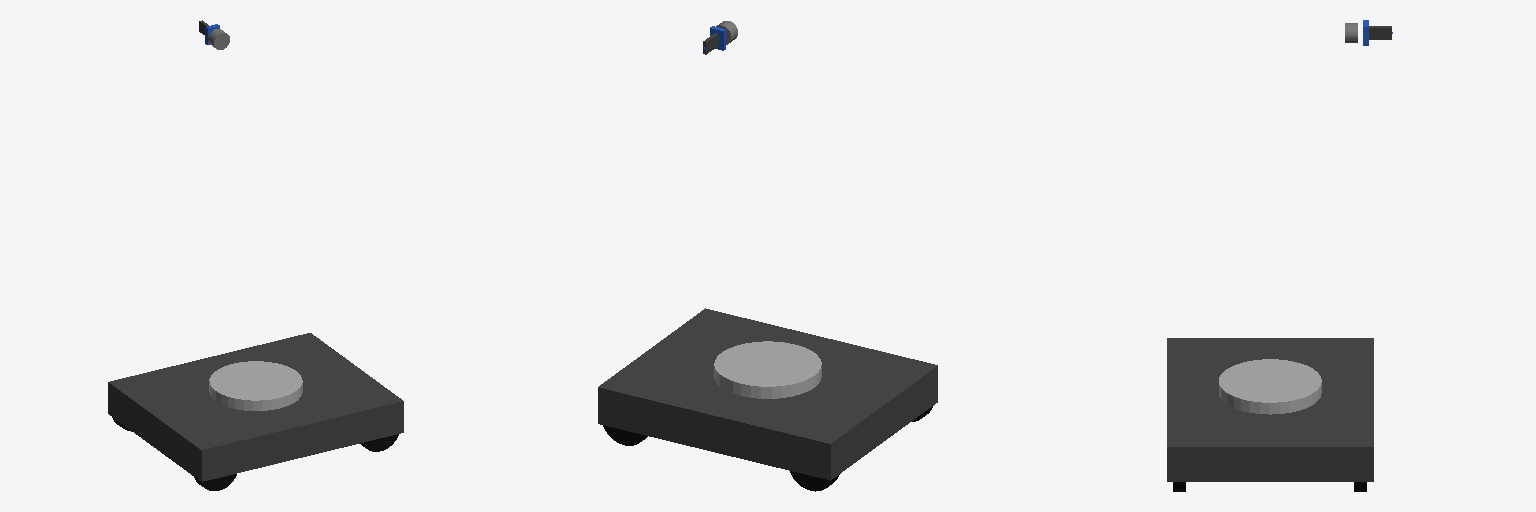
--- What the picture shows (computed from the rendered views, not written in the file) ---
The picture shows the robot from 3 angles, left to right: view 1: azimuth 30°, elevation 25°; view 2: azimuth 150°, elevation 25°; view 3: azimuth 270°, elevation 25°; orthographic projection.
Robot: ur10e — 22 links, 21 joints (6 revolute, 3 prismatic, 12 fixed); root link world_platform; default pose: all joints at 0.
Visible links, largest first — view 1: platform_base, robot_mount; view 2: platform_base, robot_mount; view 3: platform_base, robot_mount.
Link boxes in pixels (box(x1,y1,x2,y2)): platform_base: box(108, 333, 403, 481); robot_mount: box(209, 361, 302, 410); platform_base: box(598, 308, 937, 480); robot_mount: box(714, 341, 821, 398); platform_base: box(1167, 338, 1373, 481); robot_mount: box(1219, 359, 1321, 414).
Bounding box of the posed robot: 1 × 0.8757 × 1.8 m (x, y, z).
Meshes: 7 distinct files referenced, 0 mesh visuals loaded (none loaded); not drawn: 7 (reference not matched to a file when rendering).

robot.urdf — ur10e:
<?xml version="1.0" ?>
<!-- =================================================================================== -->
<!-- |    This document was autogenerated by xacro from [local-path]/lattebot_ws2/src/pkg01/urdf/ur10e.urdf.xacro | -->
<!-- |    EDITING THIS FILE BY HAND IS NOT RECOMMENDED                                 | -->
<!-- =================================================================================== -->
<robot name="ur10e">
    <!-- Materials -->
    <material name="LightGrey">
        <color rgba="0.7 0.7 0.7 1.0" />
    </material>
    <material name="Blue">
        <color rgba="0.0 0.0 0.8 1.0" />
    </material>
    <material name="Red">
        <color rgba="0.8 0.0 0.0 1.0" />
    </material>
    <!-- Base link -->
    <link name="base_link">
        <visual>
            <geometry>
                <mesh filename="package://pkg01/urdf/meshes/ur10e/visual/base.dae" />
            </geometry>
            <material name="LightGrey" />
        </visual>
        <collision>
            <geometry>
                <mesh filename="package://pkg01/urdf/meshes/ur10e/collision/base.stl" />
            </geometry>
        </collision>
        <inertial>
            <mass value="4.0" />
            <origin rpy="0 0 0" xyz="0 0 0" />
            <inertia ixx="0.00443333156" ixy="0.0" ixz="0.0" iyy="0.00443333156" iyz="0.0" izz="0.0072" />
        </inertial>
    </link>
    <link name="shoulder_link">
        <visual>
            <geometry>
                <mesh filename="package://pkg01/urdf/meshes/ur10e/visual/shoulder.dae" />
            </geometry>
            <material name="LightGrey" />
        </visual>
        <collision>
            <geometry>
                <mesh filename="package://pkg01/urdf/meshes/ur10e/collision/shoulder.stl" />
            </geometry>
        </collision>
        <inertial>
            <mass value="7.778" />
            <origin rpy="0 0 0" xyz="0 0 0" />
            <inertia ixx="0.0314743125" ixy="0.0" ixz="0.0" iyy="0.0314743125" iyz="0.0" izz="0.021875" />
        </inertial>
    </link>
    <link name="upper_arm_link">
        <visual>
            <geometry>
                <mesh filename="package://pkg01/urdf/meshes/ur10e/visual/upperarm.dae" />
            </geometry>
            <material name="LightGrey" />
        </visual>
        <collision>
            <geometry>
                <mesh filename="package://pkg01/urdf/meshes/ur10e/collision/upperarm.stl" />
            </geometry>
        </collision>
        <inertial>
            <mass value="12.93" />
            <origin rpy="0 0 0" xyz="0 0 0.30635" />
            <inertia ixx="0.421753803" ixy="0.0" ixz="0.0" iyy="0.421753803" iyz="0.0" izz="0.036365625" />
        </inertial>
    </link>
    <link name="forearm_link">
        <visual>
            <geometry>
                <mesh filename="package://pkg01/urdf/meshes/ur10e/visual/forearm.dae" />
            </geometry>
            <material name="LightGrey" />
        </visual>
        <collision>
            <geometry>
                <mesh filename="package://pkg01/urdf/meshes/ur10e/collision/forearm.stl" />
            </geometry>
        </collision>
        <inertial>
            <mass value="3.87" />
            <origin rpy="0 0 0" xyz="0 0 0.285775" />
            <inertia ixx="0.111172755" ixy="0.0" ixz="0.0" iyy="0.111172755" iyz="0.0" izz="0.010884375" />
        </inertial>
    </link>
    <link name="wrist_1_link">
        <visual>
            <geometry>
                <mesh filename="package://pkg01/urdf/meshes/ur10e/visual/wrist1.dae" />
            </geometry>
            <material name="LightGrey" />
        </visual>
        <collision>
            <geometry>
                <mesh filename="package://pkg01/urdf/meshes/ur10e/collision/wrist1.stl" />
            </geometry>
        </collision>
        <inertial>
            <mass value="1.96" />
            <origin rpy="0 0 0" xyz="0 0 0" />
            <inertia ixx="0.0051082479" ixy="0.0" ixz="0.0" iyy="0.0051082479" iyz="0.0" izz="0.0055125" />
        </inertial>
    </link>
    <link name="wrist_2_link">
        <visual>
            <geometry>
                <mesh filename="package://pkg01/urdf/meshes/ur10e/visual/wrist2.dae" />
            </geometry>
            <material name="LightGrey" />
        </visual>
        <collision>
            <geometry>
                <mesh filename="package://pkg01/urdf/meshes/ur10e/collision/wrist2.stl" />
            </geometry>
        </collision>
        <inertial>
            <mass value="1.96" />
            <origin rpy="0 0 0" xyz="0 0 0" />
            <inertia ixx="0.0051082479" ixy="0.0" ixz="0.0" iyy="0.0051082479" iyz="0.0" izz="0.0055125" />
        </inertial>
    </link>
    <link name="wrist_3_link">
        <visual>
            <geometry>
                <mesh filename="package://pkg01/urdf/meshes/ur10e/visual/wrist3.dae" />
            </geometry>
            <material name="LightGrey" />
        </visual>
        <collision>
            <geometry>
                <mesh filename="package://pkg01/urdf/meshes/ur10e/collision/wrist3.stl" />
            </geometry>
        </collision>
        <inertial>
            <mass value="0.202" />
            <origin rpy="0 0 0" xyz="0.0 0.0 -0.025" />
            <inertia ixx="0.000526462289" ixy="0.0" ixz="0.0" iyy="0.000526462289" iyz="0.0" izz="0.000568125" />
        </inertial>
    </link>
    <link name="ee_link">
        <collision>
            <geometry>
                <box size="0.01 0.01 0.01" />
            </geometry>
            <origin rpy="0 0 0" xyz="-0.01 0 0" />
        </collision>
        <inertial>
            <mass value="0.1" />
            <origin xyz="0 0 0" rpy="0 0 0" />
            <inertia ixx="0.03" iyy="0.03" izz="0.03" ixy="0.0" ixz="0.0" iyz="0.0" />
        </inertial>
    </link>
    <link name="tool0" />
    <link name="flange" />
    <!-- Shoulder link -->
    <joint name="shoulder_pan_joint" type="revolute">
        <parent link="base_link" />
        <child link="shoulder_link" />
        <origin rpy="0.0 0.0 0.0" xyz="0.0 0.0 0.1807" />
        <axis xyz="0 0 1" />
        <limit effort="330.0" lower="-6.283185307179586" upper="6.283185307179586" velocity="2.16" />
        <dynamics damping="0.0" friction="0.0" />
    </joint>
    <!-- Upper arm link -->
    <joint name="shoulder_lift_joint" type="revolute">
        <parent link="shoulder_link" />
        <child link="upper_arm_link" />
        <origin rpy="0.0 0.0 0.0" xyz="0.0 0.17415 0.0" />
        <axis xyz="0 1 0" />
        <limit effort="330.0" lower="-3.141592653589793" upper="3.141592653589793" velocity="2.16" />
        <dynamics damping="0.0" friction="0.0" />
    </joint>
    <!-- Forearm link -->
    <joint name="elbow_joint" type="revolute">
        <parent link="upper_arm_link" />
        <child link="forearm_link" />
        <origin rpy="0.0 0.0 0.0" xyz="0.0 -0.1365 0.6127" />
        <axis xyz="0 1 0" />
        <limit effort="150.0" lower="-3.141592653589793" upper="3.141592653589793" velocity="3.15" />
        <dynamics damping="0.0" friction="0.0" />
    </joint>
    <!-- Wrist 1 link -->
    <joint name="wrist_1_joint" type="revolute">
        <parent link="forearm_link" />
        <child link="wrist_1_link" />
        <origin rpy="0.0 0.0 0.0" xyz="0.0 0.0 0.57155" />
        <axis xyz="0 1 0" />
        <limit effort="54.0" lower="-6.283185307179586" upper="6.283185307179586" velocity="3.2" />
        <dynamics damping="0.0" friction="0.0" />
    </joint>
    <!-- Wrist 2 link -->
    <joint name="wrist_2_joint" type="revolute">
        <parent link="wrist_1_link" />
        <child link="wrist_2_link" />
        <origin rpy="0.0 0.0 0.0" xyz="0.0 0.1365 0.0" />
        <axis xyz="0 0 1" />
        <limit effort="54.0" lower="-6.283185307179586" upper="6.283185307179586" velocity="3.2" />
        <dynamics damping="0.0" friction="0.0" />
    </joint>
    <!-- Wrist 3 link -->
    <joint name="wrist_3_joint" type="revolute">
        <parent link="wrist_2_link" />
        <child link="wrist_3_link" />
        <origin rpy="0.0 0.0 0.0" xyz="0.0 0.0 0.11985" />
        <axis xyz="0 1 0" />
        <limit effort="54.0" lower="-6.283185307179586" upper="6.283185307179586" velocity="3.2" />
        <dynamics damping="0.0" friction="0.0" />
    </joint>
    <!-- End effector frame -->
    <joint name="ee_fixed_joint" type="fixed">
        <parent link="wrist_3_link" />
        <child link="ee_link" />
        <origin rpy="0.0 0.0 0.0" xyz="0.0 0.11655 0.0" />
    </joint>
    <!-- Tool frame -->
    <joint name="wrist_3_link-tool0_fixed_joint" type="fixed">
        <origin rpy="0 0 0" xyz="0 0.11655 0" />
        <parent link="wrist_3_link" />
        <child link="tool0" />
    </joint>
    <!-- ROS-Industrial 'flange' frame: attachment point for EEF models -->
    <joint name="tool0-flange_fixed_joint" type="fixed">
        <origin rpy="0 0 0" xyz="0 0 0" />
        <parent link="tool0" />
        <child link="flange" />
    </joint>
    <!-- Material for platform -->
    <material name="DarkGrey">
        <color rgba="0.3 0.3 0.3 1.0" />
    </material>
    <!-- Fixed world link (ground reference) -->
    <link name="world_platform">
        <inertial>
            <mass value="0.001" />
            <origin rpy="0 0 0" xyz="0 0 0" />
            <inertia ixx="0.001" ixy="0.0" ixz="0.0" iyy="0.001" iyz="0.0" izz="0.001" />
        </inertial>
    </link>
    <!-- Platform base link (moves along rail) -->
    <link name="platform_base">
        <visual>
            <geometry>
                <box size="1.0 0.8 0.15" />
            </geometry>
            <origin rpy="0 0 0" xyz="0 0 0.075" />
            <material name="DarkGrey" />
        </visual>
        <collision>
            <geometry>
                <box size="1.0 0.8 0.15" />
            </geometry>
            <origin rpy="0 0 0" xyz="0 0 0.075" />
        </collision>
        <inertial>
            <mass value="50.0" />
            <origin rpy="0 0 0" xyz="0 0 0.075" />
            <inertia ixx="2.7604166666666665" ixy="0.0" ixz="0.0" iyy="4.260416666666666" iyz="0.0" izz="6.833333333333333" />
        </inertial>
    </link>
    <link name="front_left_wheel">
        <visual>
            <geometry>
                <cylinder length="0.05" radius="0.1" />
            </geometry>
            <origin rpy="1.5707963267948966 0 0" xyz="0 0 0" />
            <material name="Black">
                <color rgba="0.1 0.1 0.1 1.0" />
            </material>
        </visual>
        <collision>
            <geometry>
                <cylinder length="0.05" radius="0.1" />
            </geometry>
            <origin rpy="1.5707963267948966 0 0" xyz="0 0 0" />
        </collision>
        <inertial>
            <mass value="2.0" />
            <origin rpy="1.5707963267948966 0 0" xyz="0 0 0" />
            <inertia ixx="0.005416666666666668" ixy="0.0" ixz="0.0" iyy="0.005416666666666668" iyz="0.0" izz="0.010000000000000002" />
        </inertial>
    </link>
    <joint name="front_left_wheel_joint" type="fixed">
        <parent link="platform_base" />
        <child link="front_left_wheel" />
        <origin rpy="0 0 0" xyz="0.4 0.35 0.02500000000000001" />
    </joint>
    <gazebo reference="front_left_wheel">
        <material>Gazebo/Black</material>
        <mu1>1.0</mu1>
        <mu2>1.0</mu2>
        <plugin name="gazebo_ros_control" filename="libgazebo_ros_control.so">
            <robotNamespace>/</robotNamespace>
        </plugin>
    </gazebo>
    <link name="front_right_wheel">
        <visual>
            <geometry>
                <cylinder length="0.05" radius="0.1" />
            </geometry>
            <origin rpy="1.5707963267948966 0 0" xyz="0 0 0" />
            <material name="Black">
                <color rgba="0.1 0.1 0.1 1.0" />
            </material>
        </visual>
        <collision>
            <geometry>
                <cylinder length="0.05" radius="0.1" />
            </geometry>
            <origin rpy="1.5707963267948966 0 0" xyz="0 0 0" />
        </collision>
        <inertial>
            <mass value="2.0" />
            <origin rpy="1.5707963267948966 0 0" xyz="0 0 0" />
            <inertia ixx="0.005416666666666668" ixy="0.0" ixz="0.0" iyy="0.005416666666666668" iyz="0.0" izz="0.010000000000000002" />
        </inertial>
    </link>
    <joint name="front_right_wheel_joint" type="fixed">
        <parent link="platform_base" />
        <child link="front_right_wheel" />
        <origin rpy="0 0 0" xyz="0.4 -0.35 0.02500000000000001" />
    </joint>
    <gazebo reference="front_right_wheel">
        <material>Gazebo/Black</material>
        <mu1>1.0</mu1>
        <mu2>1.0</mu2>
    </gazebo>
    <link name="rear_left_wheel">
        <visual>
            <geometry>
                <cylinder length="0.05" radius="0.1" />
            </geometry>
            <origin rpy="1.5707963267948966 0 0" xyz="0 0 0" />
            <material name="Black">
                <color rgba="0.1 0.1 0.1 1.0" />
            </material>
        </visual>
        <collision>
            <geometry>
                <cylinder length="0.05" radius="0.1" />
            </geometry>
            <origin rpy="1.5707963267948966 0 0" xyz="0 0 0" />
        </collision>
        <inertial>
            <mass value="2.0" />
            <origin rpy="1.5707963267948966 0 0" xyz="0 0 0" />
            <inertia ixx="0.005416666666666668" ixy="0.0" ixz="0.0" iyy="0.005416666666666668" iyz="0.0" izz="0.010000000000000002" />
        </inertial>
    </link>
    <joint name="rear_left_wheel_joint" type="fixed">
        <parent link="platform_base" />
        <child link="rear_left_wheel" />
        <origin rpy="0 0 0" xyz="-0.4 0.35 0.02500000000000001" />
    </joint>
    <gazebo reference="rear_left_wheel">
        <material>Gazebo/Black</material>
        <mu1>1.0</mu1>
        <mu2>1.0</mu2>
    </gazebo>
    <link name="rear_right_wheel">
        <visual>
            <geometry>
                <cylinder length="0.05" radius="0.1" />
            </geometry>
            <origin rpy="1.5707963267948966 0 0" xyz="0 0 0" />
            <material name="Black">
                <color rgba="0.1 0.1 0.1 1.0" />
            </material>
        </visual>
        <collision>
            <geometry>
                <cylinder length="0.05" radius="0.1" />
            </geometry>
            <origin rpy="1.5707963267948966 0 0" xyz="0 0 0" />
        </collision>
        <inertial>
            <mass value="2.0" />
            <origin rpy="1.5707963267948966 0 0" xyz="0 0 0" />
            <inertia ixx="0.005416666666666668" ixy="0.0" ixz="0.0" iyy="0.005416666666666668" iyz="0.0" izz="0.010000000000000002" />
        </inertial>
    </link>
    <joint name="rear_right_wheel_joint" type="fixed">
        <parent link="platform_base" />
        <child link="rear_right_wheel" />
        <origin rpy="0 0 0" xyz="-0.4 -0.35 0.02500000000000001" />
    </joint>
    <gazebo reference="rear_right_wheel">
        <material>Gazebo/Black</material>
        <mu1>1.0</mu1>
        <mu2>1.0</mu2>
    </gazebo>
    <!-- Prismatic joint for linear motion (0 to 10 meters along X axis) -->
    <joint name="platform_joint" type="prismatic">
        <parent link="world_platform" />
        <child link="platform_base" />
        <origin rpy="0 0 0" xyz="0 0 0" />
        <axis xyz="1 0 0" />
        <!-- Motion along X axis -->
        <limit effort="1000.0" lower="0.0" upper="10.0" velocity="1.0" />
        <dynamics damping="50.0" friction="10.0" />
    </joint>
    <!-- Robot mounting plate on top of platform -->
    <link name="robot_mount">
        <visual>
            <geometry>
                <cylinder length="0.05" radius="0.2" />
            </geometry>
            <origin rpy="0 0 0" xyz="0 0 0.025" />
            <material name="LightGrey">
                <color rgba="0.7 0.7 0.7 1.0" />
            </material>
        </visual>
        <collision>
            <geometry>
                <cylinder length="0.05" radius="0.2" />
            </geometry>
            <origin rpy="0 0 0" xyz="0 0 0.025" />
        </collision>
        <inertial>
            <mass value="5.0" />
            <origin rpy="0 0 0" xyz="0 0 0.025" />
            <inertia ixx="0.0208" ixy="0.0" ixz="0.0" iyy="0.0208" iyz="0.0" izz="0.02" />
        </inertial>
    </link>
    <!-- Fixed joint connecting platform to robot mount -->
    <joint name="platform_to_mount" type="fixed">
        <parent link="platform_base" />
        <child link="robot_mount" />
        <origin rpy="0 0 0" xyz="0 0 0.15" />
    </joint>
    <!-- Gazebo properties -->
    <gazebo reference="world_platform">
        <static>true</static>
    </gazebo>
    <gazebo reference="platform_base">
        <material>Gazebo/DarkGrey</material>
        <mu1>0.8</mu1>
        <mu2>0.8</mu2>
    </gazebo>
    <gazebo reference="robot_mount">
        <material>Gazebo/Grey</material>
    </gazebo>
    <!-- Transmission for the prismatic joint -->
    <transmission name="platform_trans">
        <type>transmission_interface/SimpleTransmission</type>
        <joint name="platform_joint">
            <hardwareInterface>hardware_interface/PositionJointInterface</hardwareInterface>
        </joint>
        <actuator name="platform_motor">
            <mechanicalReduction>1</mechanicalReduction>
            <hardwareInterface>hardware_interface/EffortJointInterface</hardwareInterface>
        </actuator>
    </transmission>
    <!-- Connect robot base to platform mount -->
    <joint name="robot_mount_to_base" type="fixed">
        <origin rpy="0 0 0" xyz="0 0 0.05" />
        <parent link="robot_mount" />
        <child link="base_link" />
    </joint>
    <!-- Simple Gripper Macro for Pick and Place Operations -->
    <!-- Can be attached to UR10e tool0/flange -->
    <!-- Materials -->
    <material name="gripper_gray">
        <color rgba="0.5 0.5 0.5 1.0" />
    </material>
    <material name="gripper_dark">
        <color rgba="0.3 0.3 0.3 1.0" />
    </material>
    <material name="gripper_blue">
        <color rgba="0.2 0.4 0.8 1.0" />
    </material>
    <!-- Base Link (mounts to robot tool flange) -->
    <link name="gripper_base_link">
        <visual>
            <origin rpy="0 0 0" xyz="0 0 0.025" />
            <geometry>
                <cylinder length="0.05" radius="0.04" />
            </geometry>
            <material name="gripper_gray" />
        </visual>
        <collision>
            <origin rpy="0 0 0" xyz="0 0 0.025" />
            <geometry>
                <cylinder length="0.05" radius="0.04" />
            </geometry>
        </collision>
        <inertial>
            <origin rpy="0 0 0" xyz="0 0 0.025" />
            <mass value="0.3" />
            <inertia ixx="0.0001" ixy="0.0" ixz="0.0" iyy="0.0001" iyz="0.0" izz="0.0001" />
        </inertial>
    </link>
    <!-- Palm Link (connection point for fingers) -->
    <link name="gripper_palm">
        <visual>
            <origin rpy="0 0 0" xyz="0 0 0.03" />
            <geometry>
                <box size="0.06 0.08 0.02" />
            </geometry>
            <material name="gripper_blue" />
        </visual>
        <collision>
            <origin rpy="0 0 0" xyz="0 0 0.03" />
            <geometry>
                <box size="0.06 0.08 0.02" />
            </geometry>
        </collision>
        <inertial>
            <origin rpy="0 0 0" xyz="0 0 0.03" />
            <mass value="0.15" />
            <inertia ixx="0.00005" ixy="0.0" ixz="0.0" iyy="0.00005" iyz="0.0" izz="0.00005" />
        </inertial>
    </link>
    <!-- Left Finger -->
    <link name="left_finger">
        <visual>
            <origin rpy="0 0 0" xyz="0 0 0.045" />
            <geometry>
                <box size="0.015 0.025 0.09" />
            </geometry>
            <material name="gripper_dark" />
        </visual>
        <collision>
            <origin rpy="0 0 0" xyz="0 0 0.045" />
            <geometry>
                <box size="0.015 0.025 0.09" />
            </geometry>
        </collision>
        <inertial>
            <origin rpy="0 0 0" xyz="0 0 0.045" />
            <mass value="0.03" />
            <inertia ixx="0.00001" ixy="0.0" ixz="0.0" iyy="0.00001" iyz="0.0" izz="0.00001" />
        </inertial>
    </link>
    <!-- Right Finger -->
    <link name="right_finger">
        <visual>
            <origin rpy="0 0 0" xyz="0 0 0.045" />
            <geometry>
                <box size="0.015 0.025 0.09" />
            </geometry>
            <material name="gripper_dark" />
        </visual>
        <collision>
            <origin rpy="0 0 0" xyz="0 0 0.045" />
            <geometry>
                <box size="0.015 0.025 0.09" />
            </geometry>
        </collision>
        <inertial>
            <origin rpy="0 0 0" xyz="0 0 0.045" />
            <mass value="0.03" />
            <inertia ixx="0.00001" ixy="0.0" ixz="0.0" iyy="0.00001" iyz="0.0" izz="0.00001" />
        </inertial>
    </link>
    <!-- Gripper Tip Link (virtual link for grasping point) -->
    <link name="gripper_tip">
        <visual>
            <origin rpy="0 0 0" xyz="0 0 0" />
            <geometry>
                <sphere radius="0.005" />
            </geometry>
            <material name="gripper_blue" />
        </visual>
    </link>
    <!-- Joint: Base to Palm -->
    <joint name="base_to_palm_joint" type="fixed">
        <parent link="gripper_base_link" />
        <child link="gripper_palm" />
        <origin rpy="0 0 0" xyz="0 0 0.05" />
    </joint>
    <!-- Joint: Left Finger (Prismatic - opens/closes) -->
    <!-- Finger width = 25mm, so half-width = 12.5mm -->
    <!-- Origin at palm edge (40mm/2 = 20mm) minus finger half-width (12.5mm) = 7.5mm -->
    <!-- Lower limit (closed): fingers meet at center without overlap -->
    <!-- Upper limit (open): 25mm travel = 50mm total grip width -->
    <joint name="left_finger_joint" type="prismatic">
        <parent link="gripper_palm" />
        <child link="left_finger" />
        <origin rpy="0 0 0" xyz="0 0.0125 0.04" />
        <axis xyz="0 1 0" />
        <limit effort="100" lower="-0.0125" upper="0.025" velocity="0.5" />
        <dynamics damping="1.0" friction="0.5" />
    </joint>
    <!-- Joint: Right Finger (Prismatic - opens/closes) -->
    <!-- Mirrors left finger motion to maintain symmetric gripping -->
    <joint name="right_finger_joint" type="prismatic">
        <parent link="gripper_palm" />
        <child link="right_finger" />
        <origin rpy="0 0 0" xyz="0 -0.0125 0.04" />
        <axis xyz="0 -1 0" />
        <limit effort="100" lower="-0.0125" upper="0.025" velocity="0.5" />
        <dynamics damping="1.0" friction="0.5" />
    </joint>
    <!-- Joint: Palm to Gripper Tip (fixed, for reference point) -->
    <joint name="palm_to_tip_joint" type="fixed">
        <parent link="gripper_palm" />
        <child link="gripper_tip" />
        <origin rpy="0 0 0" xyz="0 0 0.13" />
    </joint>
    <!-- Gazebo-specific configurations -->
    <gazebo reference="gripper_base_link">
        <material>Gazebo/Grey</material>
        <mu1>0.5</mu1>
        <mu2>0.5</mu2>
    </gazebo>
    <gazebo reference="gripper_palm">
        <material>Gazebo/Blue</material>
        <mu1>0.8</mu1>
        <mu2>0.8</mu2>
    </gazebo>
    <gazebo reference="left_finger">
        <material>Gazebo/DarkGrey</material>
        <mu1>2.0</mu1>
        <mu2>2.0</mu2>
        <kp>1000000.0</kp>
        <kd>100.0</kd>
        <minDepth>0.001</minDepth>
        <maxVel>0.1</maxVel>
    </gazebo>
    <gazebo reference="right_finger">
        <material>Gazebo/DarkGrey</material>
        <mu1>2.0</mu1>
        <mu2>2.0</mu2>
        <kp>1000000.0</kp>
        <kd>100.0</kd>
        <minDepth>0.001</minDepth>
        <maxVel>0.1</maxVel>
    </gazebo>
    <!-- Transmission for left finger (for ros_control) -->
    <transmission name="left_finger_trans">
        <type>transmission_interface/SimpleTransmission</type>
        <joint name="left_finger_joint">
            <hardwareInterface>hardware_interface/EffortJointInterface</hardwareInterface>
        </joint>
        <actuator name="left_finger_motor">
            <mechanicalReduction>1</mechanicalReduction>
            <hardwareInterface>hardware_interface/EffortJointInterface</hardwareInterface>
        </actuator>
    </transmission>
    <!-- Transmission for right finger (for ros_control) -->
    <transmission name="right_finger_trans">
        <type>transmission_interface/SimpleTransmission</type>
        <joint name="right_finger_joint">
            <hardwareInterface>hardware_interface/EffortJointInterface</hardwareInterface>
        </joint>
        <actuator name="right_finger_motor">
            <mechanicalReduction>1</mechanicalReduction>
            <hardwareInterface>hardware_interface/EffortJointInterface</hardwareInterface>
        </actuator>
    </transmission>
    <!-- Gazebo Mimic Joint Plugin (makes right finger mirror left finger motion) -->
    <gazebo>
        <plugin filename="libroboticsgroup_gazebo_mimic_joint_plugin.so" name="mimic_joint_plugin">
            <joint>left_finger_joint</joint>
            <mimicJoint>right_finger_joint</mimicJoint>
            <multiplier>1.0</multiplier>
            <offset>0.0</offset>
            <maxEffort>100</maxEffort>
            <robotNamespace>/</robotNamespace>
        </plugin>
    </gazebo>
    <joint name="gripper_mount" type="fixed">
        <parent link="flange" />
        <child link="gripper_base_link" />
        <origin rpy="-1.5707963267948966 0 0" xyz="0 0 0" />
    </joint>
    <!-- Gazebo plugin for ROS Control -->
    <gazebo>
        <plugin filename="libgazebo_ros_control.so" name="gazebo_ros_control">
            <robotNamespace>/ur10e_robot</robotNamespace>
            <robotSimType>gazebo_ros_control/DefaultRobotHWSim</robotSimType>
        </plugin>
    </gazebo>
    <!-- Add transmission elements for each joint -->
    <transmission name="shoulder_pan_trans">
        <type>transmission_interface/SimpleTransmission</type>
        <joint name="shoulder_pan_joint">
            <hardwareInterface>hardware_interface/PositionJointInterface</hardwareInterface>
        </joint>
        <actuator name="shoulder_pan_motor">
            <mechanicalReduction>1</mechanicalReduction>
            <hardwareInterface>hardware_interface/EffortJointInterface</hardwareInterface>
        </actuator>
    </transmission>
    <transmission name="shoulder_lift_trans">
        <type>transmission_interface/SimpleTransmission</type>
        <joint name="shoulder_lift_joint">
            <hardwareInterface>hardware_interface/PositionJointInterface</hardwareInterface>
        </joint>
        <actuator name="shoulder_lift_motor">
            <mechanicalReduction>1</mechanicalReduction>
            <hardwareInterface>hardware_interface/EffortJointInterface</hardwareInterface>
        </actuator>
    </transmission>
    <transmission name="elbow_trans">
        <type>transmission_interface/SimpleTransmission</type>
        <joint name="elbow_joint">
            <hardwareInterface>hardware_interface/PositionJointInterface</hardwareInterface>
        </joint>
        <actuator name="elbow_motor">
            <mechanicalReduction>1</mechanicalReduction>
            <hardwareInterface>hardware_interface/EffortJointInterface</hardwareInterface>
        </actuator>
    </transmission>
    <transmission name="wrist_1_trans">
        <type>transmission_interface/SimpleTransmission</type>
        <joint name="wrist_1_joint">
            <hardwareInterface>hardware_interface/PositionJointInterface</hardwareInterface>
        </joint>
        <actuator name="wrist_1_motor">
            <mechanicalReduction>1</mechanicalReduction>
            <hardwareInterface>hardware_interface/EffortJointInterface</hardwareInterface>
        </actuator>
    </transmission>
    <transmission name="wrist_2_trans">
        <type>transmission_interface/SimpleTransmission</type>
        <joint name="wrist_2_joint">
            <hardwareInterface>hardware_interface/PositionJointInterface</hardwareInterface>
        </joint>
        <actuator name="wrist_2_motor">
            <mechanicalReduction>1</mechanicalReduction>
            <hardwareInterface>hardware_interface/EffortJointInterface</hardwareInterface>
        </actuator>
    </transmission>
    <transmission name="wrist_3_trans">
        <type>transmission_interface/SimpleTransmission</type>
        <joint name="wrist_3_joint">
            <hardwareInterface>hardware_interface/PositionJointInterface</hardwareInterface>
        </joint>
        <actuator name="wrist_3_motor">
            <mechanicalReduction>1</mechanicalReduction>
            <hardwareInterface>hardware_interface/EffortJointInterface</hardwareInterface>
        </actuator>
    </transmission>
</robot>
